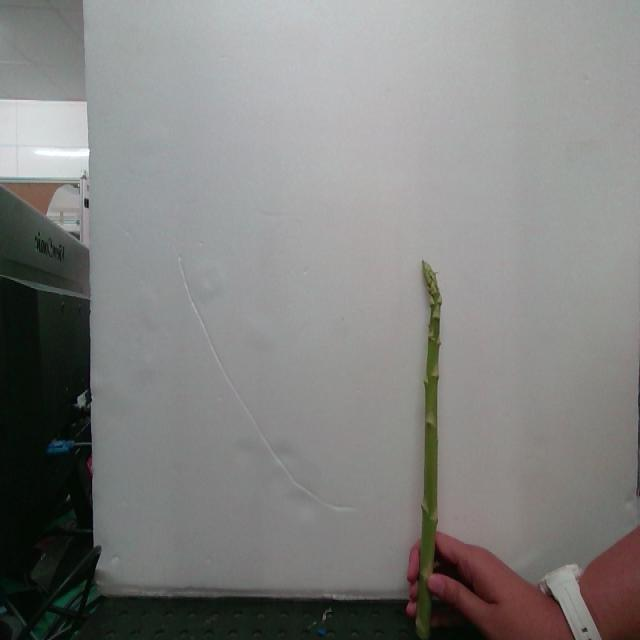aspargus: (404, 266, 442, 640)
